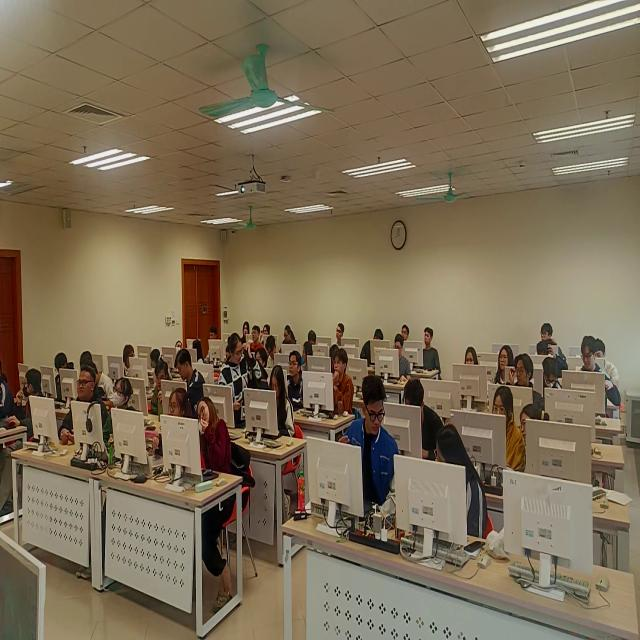raise_head: (45, 368, 105, 449), (155, 385, 196, 460), (102, 378, 137, 452), (324, 354, 353, 413), (504, 360, 536, 404), (416, 327, 441, 375), (285, 352, 306, 409), (455, 342, 481, 387), (490, 346, 513, 391), (533, 324, 557, 351), (331, 325, 347, 349)
stand: (220, 337, 254, 436)
using_computer: (392, 380, 445, 455), (482, 388, 520, 473), (572, 338, 613, 407), (259, 368, 294, 444), (378, 334, 407, 384), (148, 360, 175, 412), (537, 361, 561, 401)
